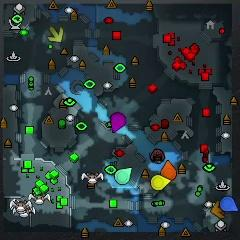p1: (221, 196, 237, 213)
p2: (115, 168, 132, 185)
p3: (110, 111, 125, 132)
p4: (150, 176, 169, 190)
p5: (162, 160, 177, 181)
x2: (48, 27, 64, 42)
x5: (212, 201, 225, 219)
